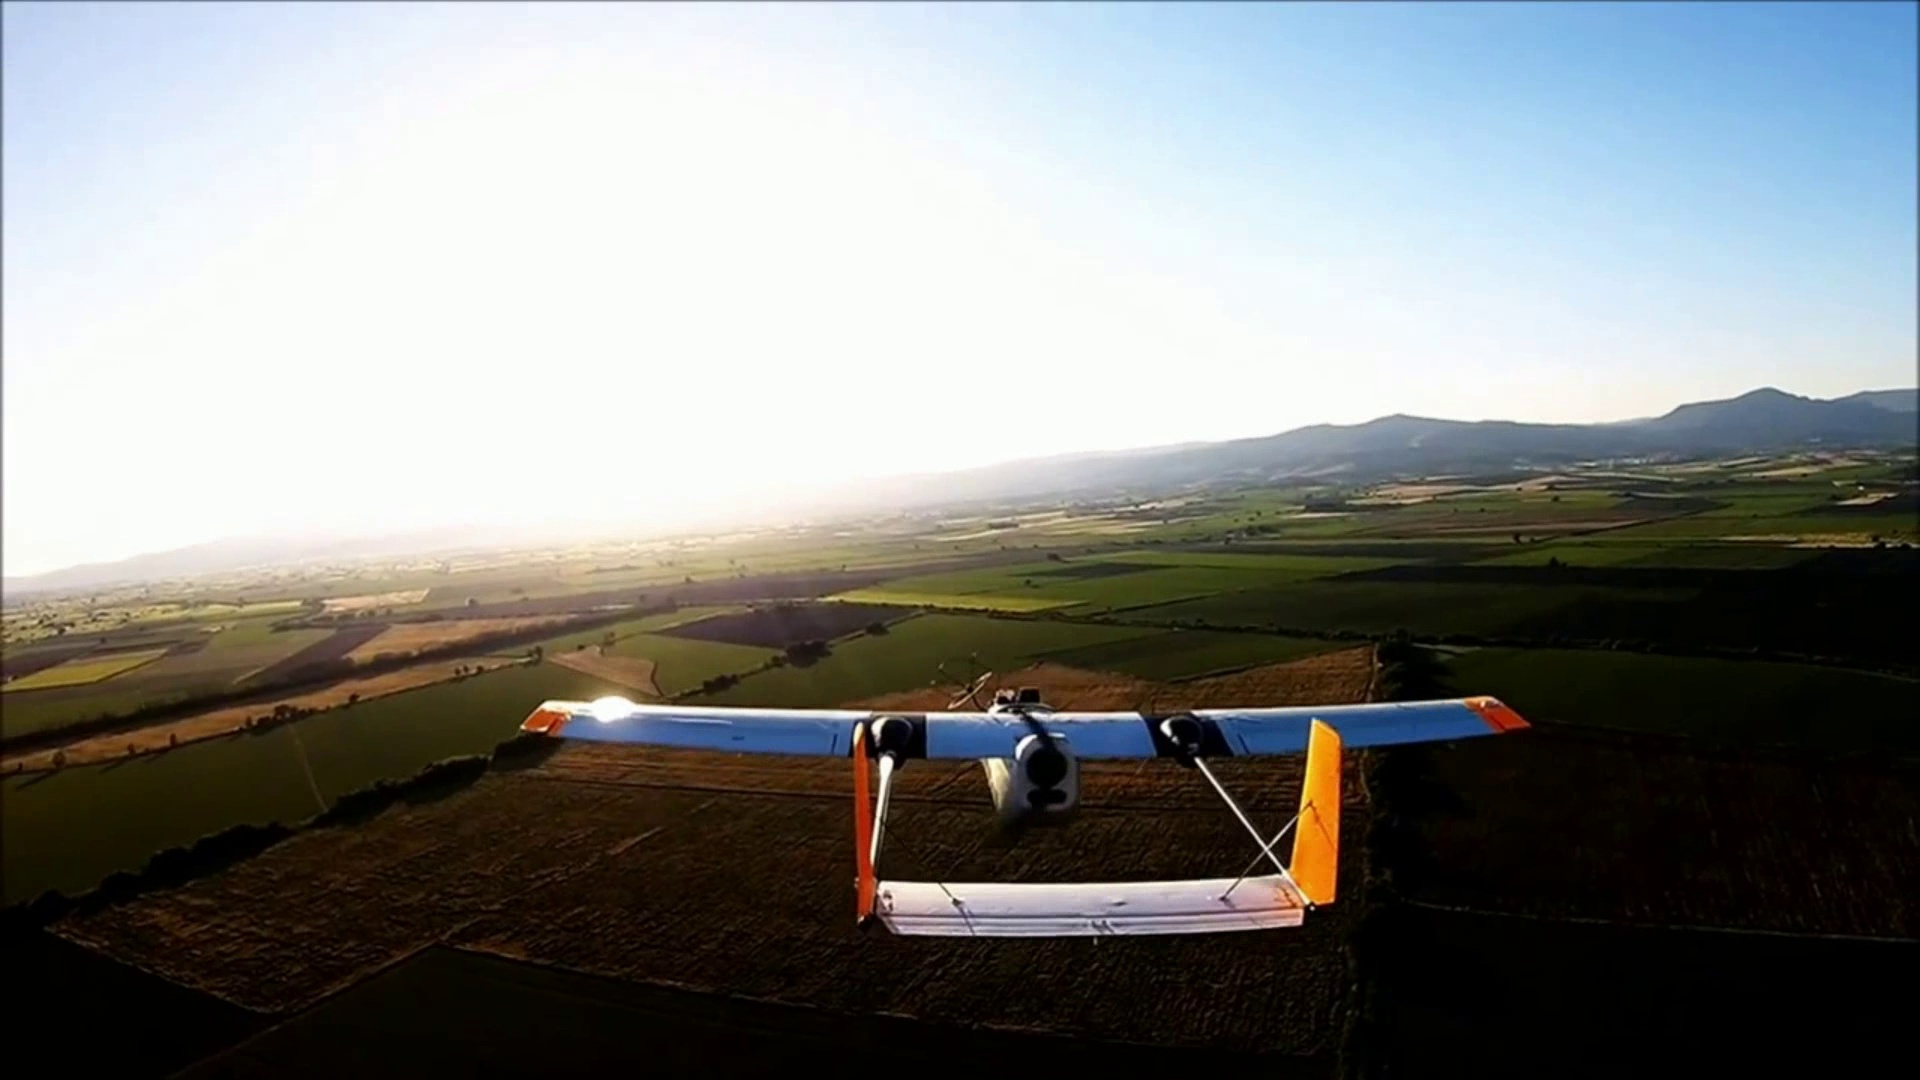airplane: (520, 691, 1532, 938)
